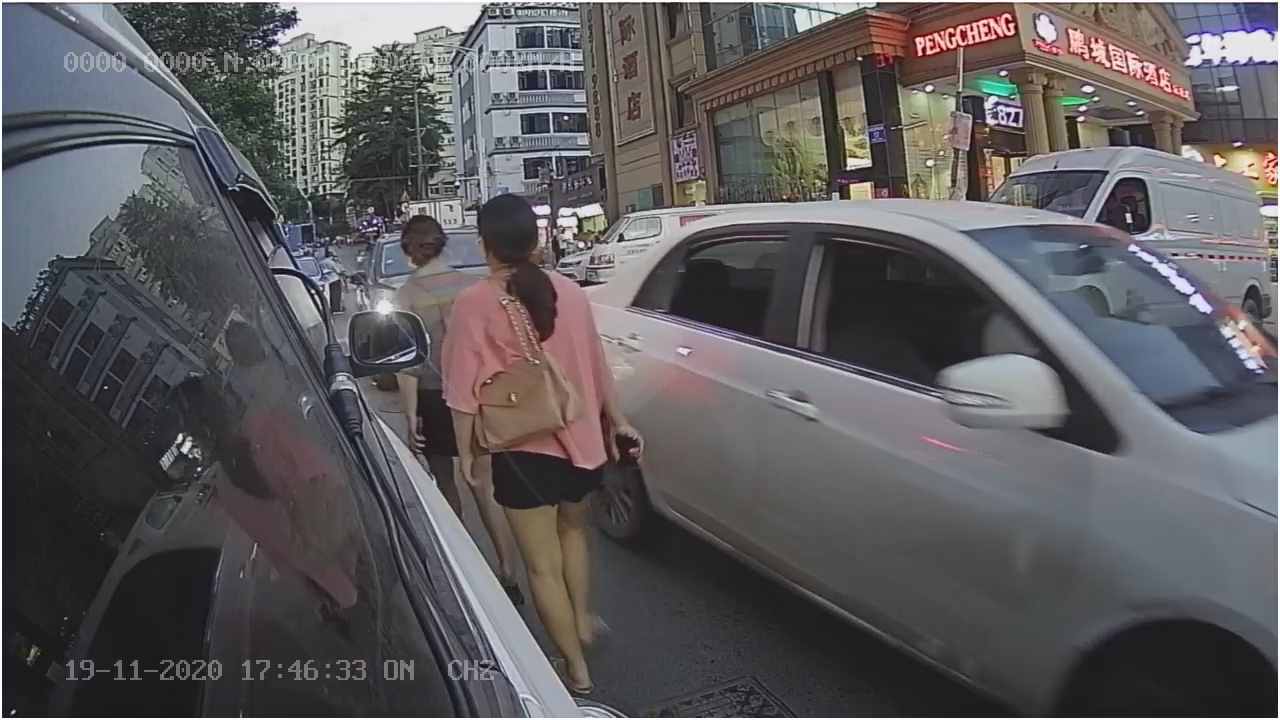person: (430, 201, 626, 510)
